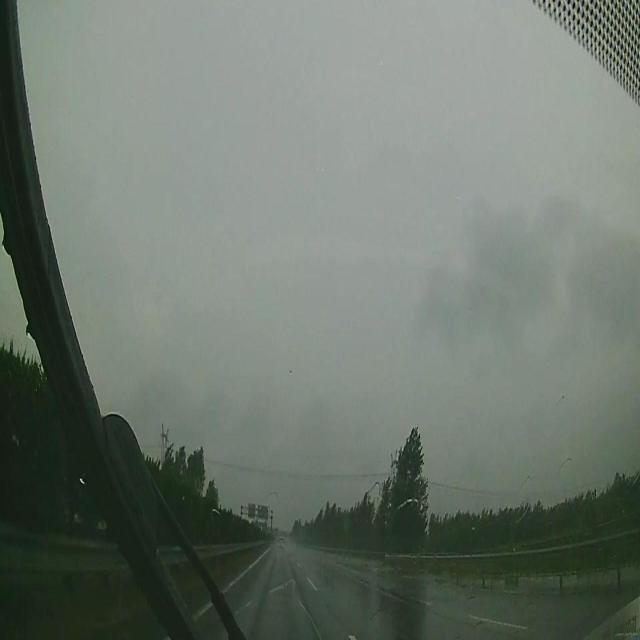car: (276, 533, 286, 552)
